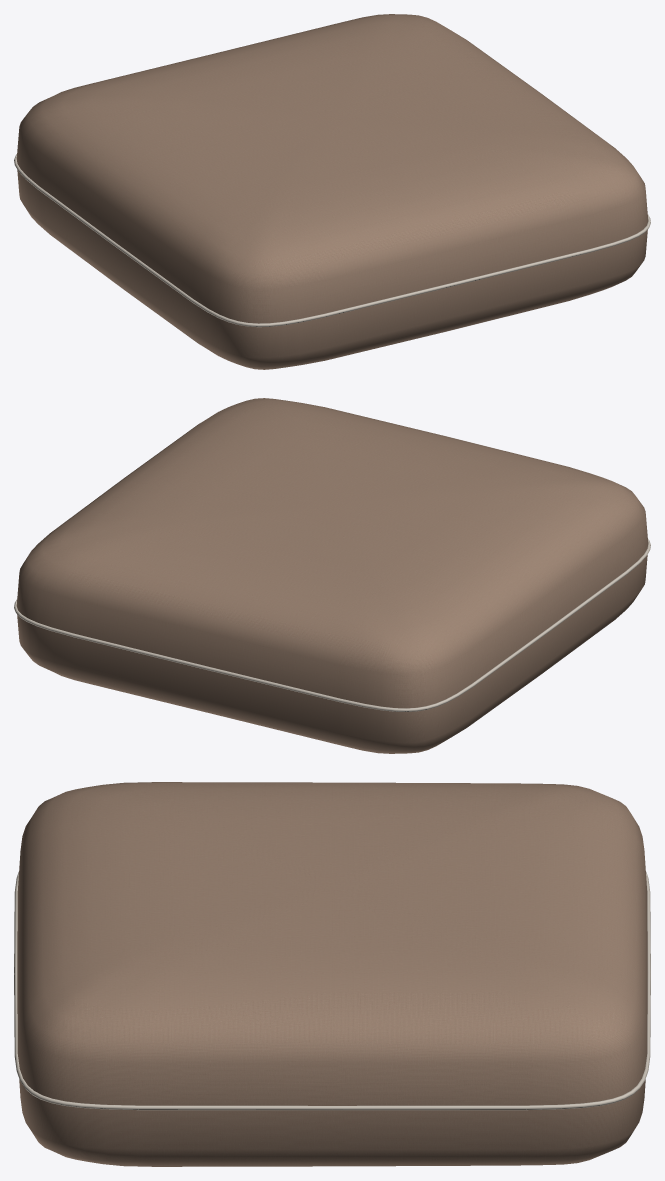
Rendered from modern.cushion.gltf.
3 renders of one model, top to bottom at view 1: azimuth 30°, elevation 25°; view 2: azimuth 150°, elevation 25°; view 3: azimuth 270°, elevation 25°, orthographic. The views are drawn at different scales.
Parts seen in each view (by area): view 1: modern.cushion.cushion; view 2: modern.cushion.cushion; view 3: modern.cushion.cushion.
Boxes of the visible parts, bbox=[...] form: modern.cushion.cushion: bbox=[14, 14, 650, 369]; modern.cushion.cushion: bbox=[14, 398, 650, 753]; modern.cushion.cushion: bbox=[14, 782, 650, 1166].
Size of the model in its own units: 0.4745 by 0.15 by 0.4745.
Materials: 2 (1 with a texture image).
